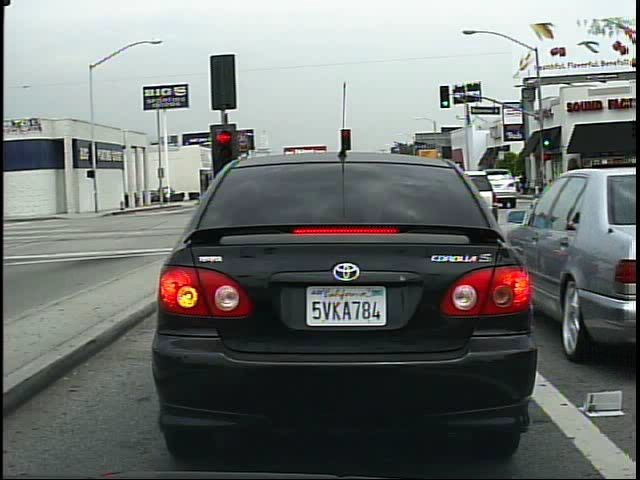person: (518, 169, 530, 197), (164, 184, 174, 208)
